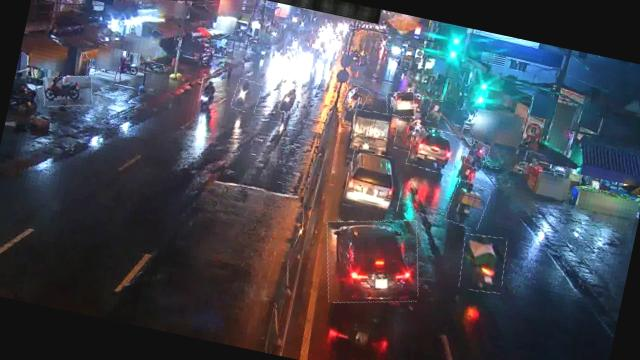Bike: (456, 231, 510, 296), (40, 70, 96, 114), (446, 179, 490, 230), (231, 78, 263, 114), (198, 77, 221, 112), (464, 140, 490, 170), (456, 148, 478, 182), (280, 81, 302, 114), (139, 60, 168, 76), (426, 98, 444, 123)
Car: (316, 207, 429, 314), (342, 140, 409, 216), (406, 124, 461, 176), (383, 88, 418, 120), (342, 83, 370, 112)
Truck: (348, 107, 400, 157)
